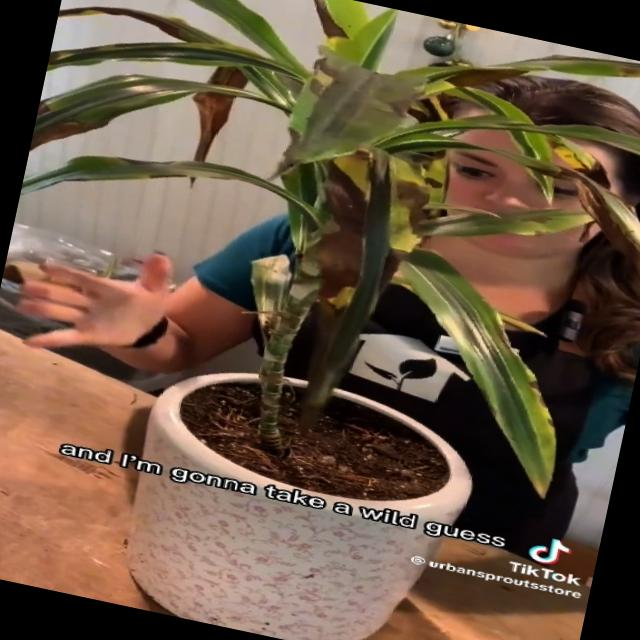lisc_suchy: (431, 303, 555, 498), (30, 71, 305, 143), (289, 60, 423, 181), (505, 153, 640, 259), (46, 40, 316, 91), (309, 154, 375, 329), (191, 0, 317, 84), (377, 150, 449, 276), (60, 6, 245, 51), (190, 65, 249, 187), (408, 56, 640, 86), (406, 207, 601, 239), (310, 0, 396, 69), (20, 155, 179, 190)
roslina_sucha: (19, 0, 640, 499)
